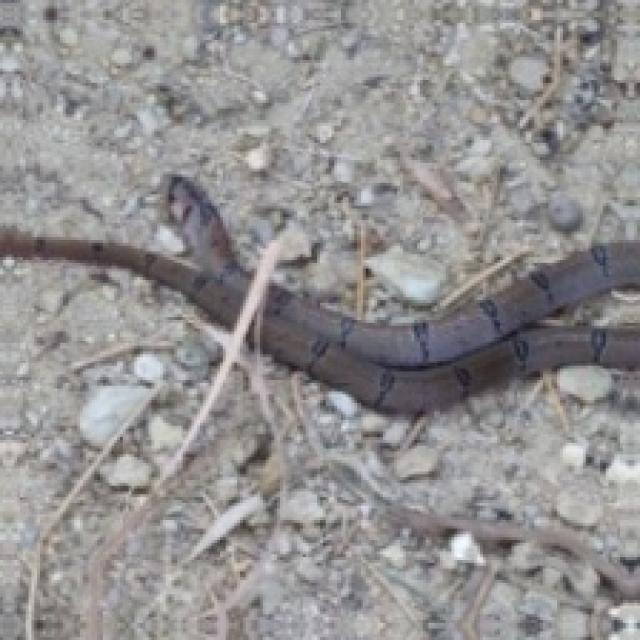northern short-headed snake: (263, 240, 637, 411), (263, 243, 637, 411), (0, 177, 249, 323), (0, 177, 246, 323)
